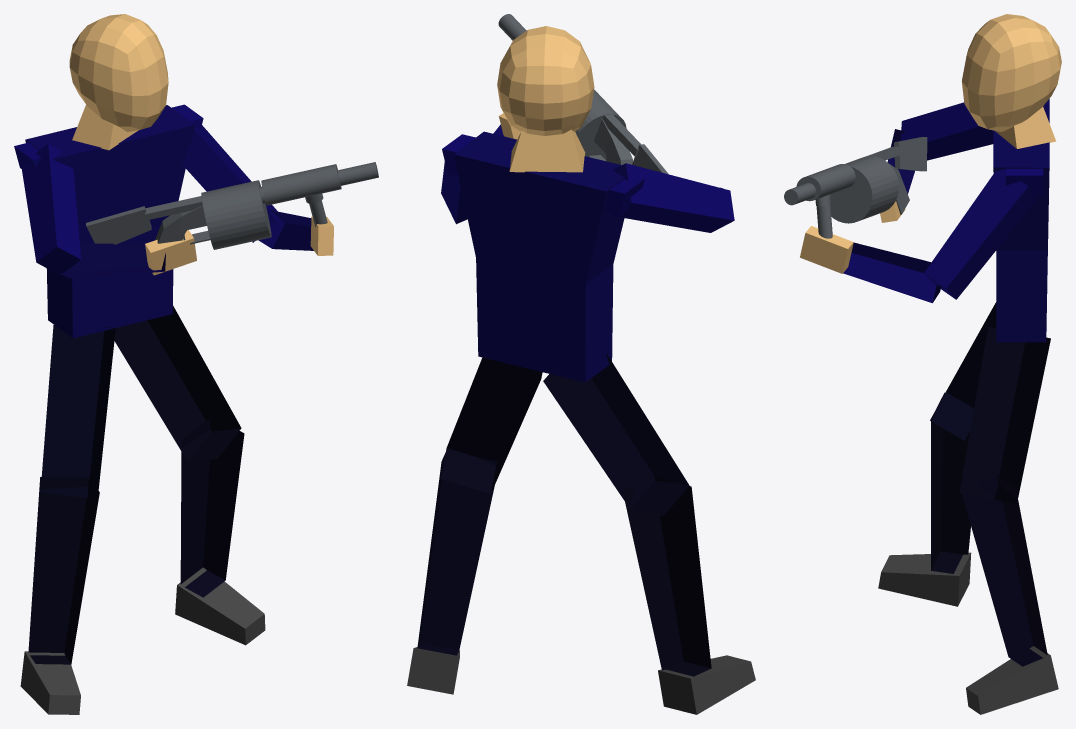
Rendered from Hacker (posed).fbx.
3 renders of one model, left to right at view 1: azimuth 30°, elevation 25°; view 2: azimuth 150°, elevation 25°; view 3: azimuth 270°, elevation 25°, orthographic. The views are drawn at different scales.
Visible parts, largest first — view 1: Torso, Cube, Leg_L, Calf_R, Leg_R, Head, Calf_L, Arm_R, Foot_L, Foot_R, Arm_L, Forearm_R (+4 smaller); view 2: Torso, Leg_R, Calf_R, Head, Calf_L, Leg_L, Arm_R, Cube, Foot_R, Neck, Foot_L, Arm_L (+2 smaller); view 3: Leg_L, Head, Torso, Calf_L, Cube, Arm_L, Calf_R, Foot_L, Foot_R, Forearm_L, Arm_R, Leg_R (+3 smaller).
Boxes of the visible parts, x1,y1,x2,y2 form: Torso: (25, 105, 195, 338); Cube: (86, 162, 378, 249); Leg_L: (114, 306, 241, 461); Calf_R: (28, 477, 99, 664); Leg_R: (40, 322, 115, 498); Head: (69, 14, 168, 131); Calf_L: (180, 418, 244, 597); Arm_R: (21, 143, 80, 275); Foot_L: (175, 567, 265, 645); Foot_R: (20, 651, 80, 714); Arm_L: (182, 125, 280, 242); Forearm_R: (59, 243, 165, 278); Torso: (454, 131, 624, 382); Leg_R: (543, 354, 689, 515); Calf_R: (622, 477, 711, 676); Head: (497, 26, 594, 135); Calf_L: (417, 453, 497, 655); Leg_L: (441, 357, 542, 493); Arm_R: (610, 163, 734, 232); Cube: (498, 14, 668, 174); Foot_R: (658, 655, 755, 714); Neck: (509, 129, 585, 172); Foot_L: (407, 647, 459, 694); Arm_L: (441, 161, 467, 224); Leg_L: (959, 326, 1050, 503); Head: (961, 14, 1061, 131); Torso: (993, 99, 1049, 342); Calf_L: (962, 474, 1047, 666); Cube: (784, 137, 927, 238); Arm_L: (924, 169, 1038, 299); Calf_R: (931, 392, 970, 573); Foot_L: (966, 646, 1058, 714); Foot_R: (878, 552, 971, 606); Forearm_L: (843, 242, 941, 303); Arm_R: (900, 102, 993, 160); Leg_R: (930, 302, 996, 440).
Size of the model in its own units: 251 by 537 by 212.
